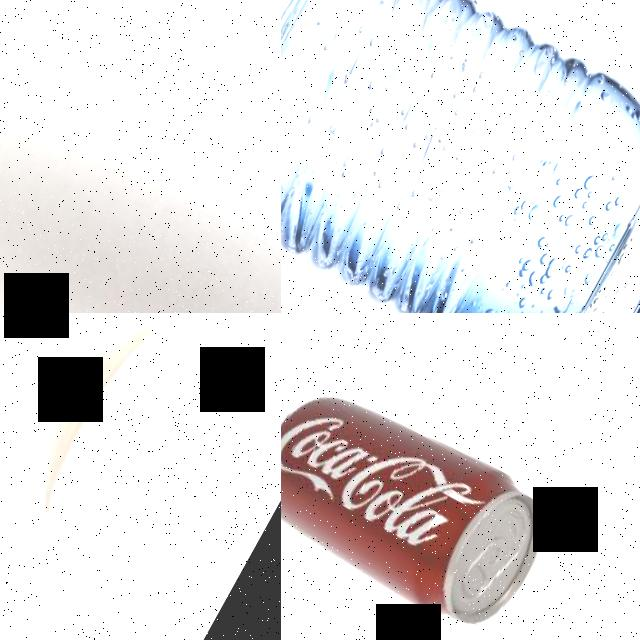bottle: (281, 0, 640, 313)
can: (281, 361, 570, 640)
cup: (0, 0, 281, 313), (0, 313, 228, 566)
